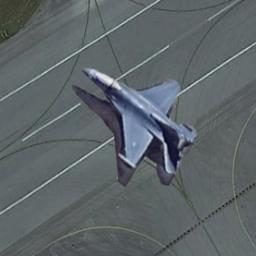Airplane: (70, 58, 210, 182)
